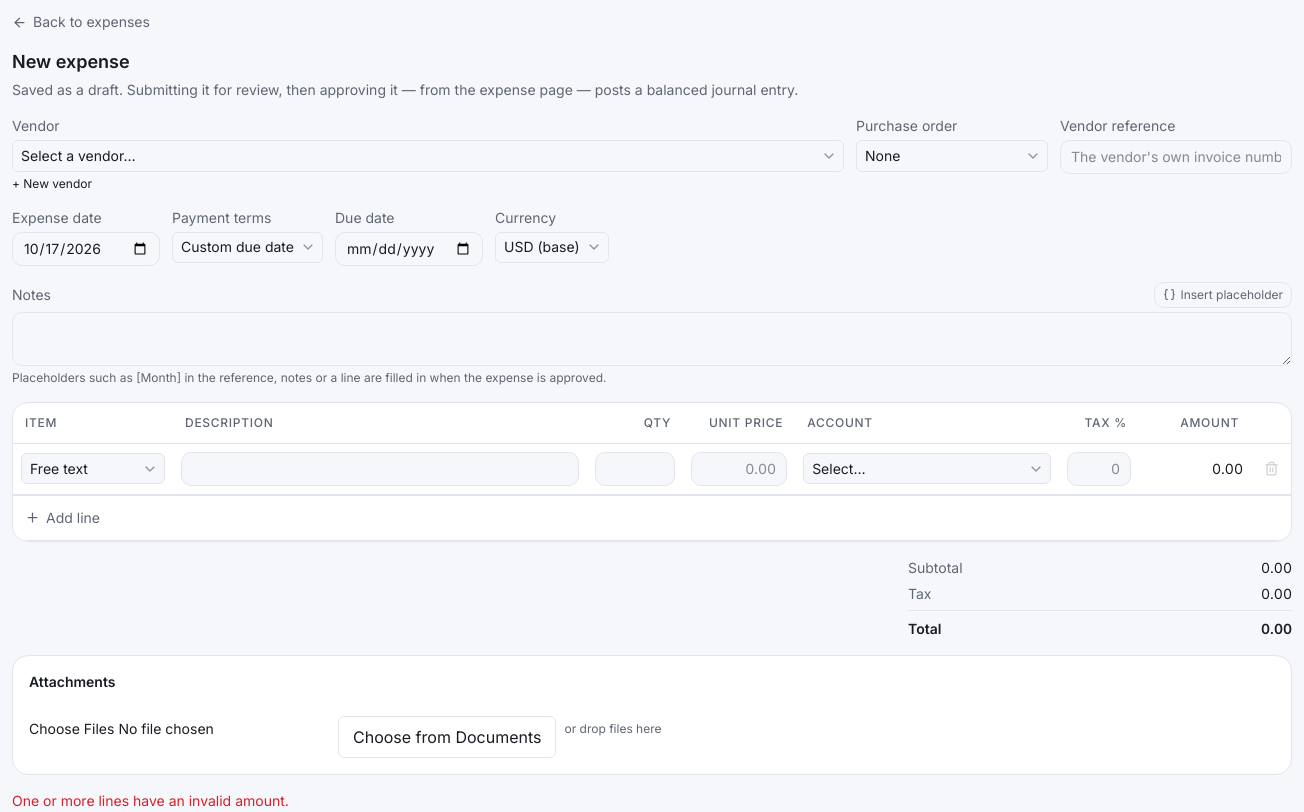
Test: quick add from a document line › on a bill, an inventory product with no account of its own gets the default inventory account
The width and height of the screenshot is (1304, 812).
Select "GEN-00009 · Plain stock · 0 EA on hand" in the dropdown named "Item for line 1" at (93, 469), box x1=21 y1=453 x2=165 y2=484
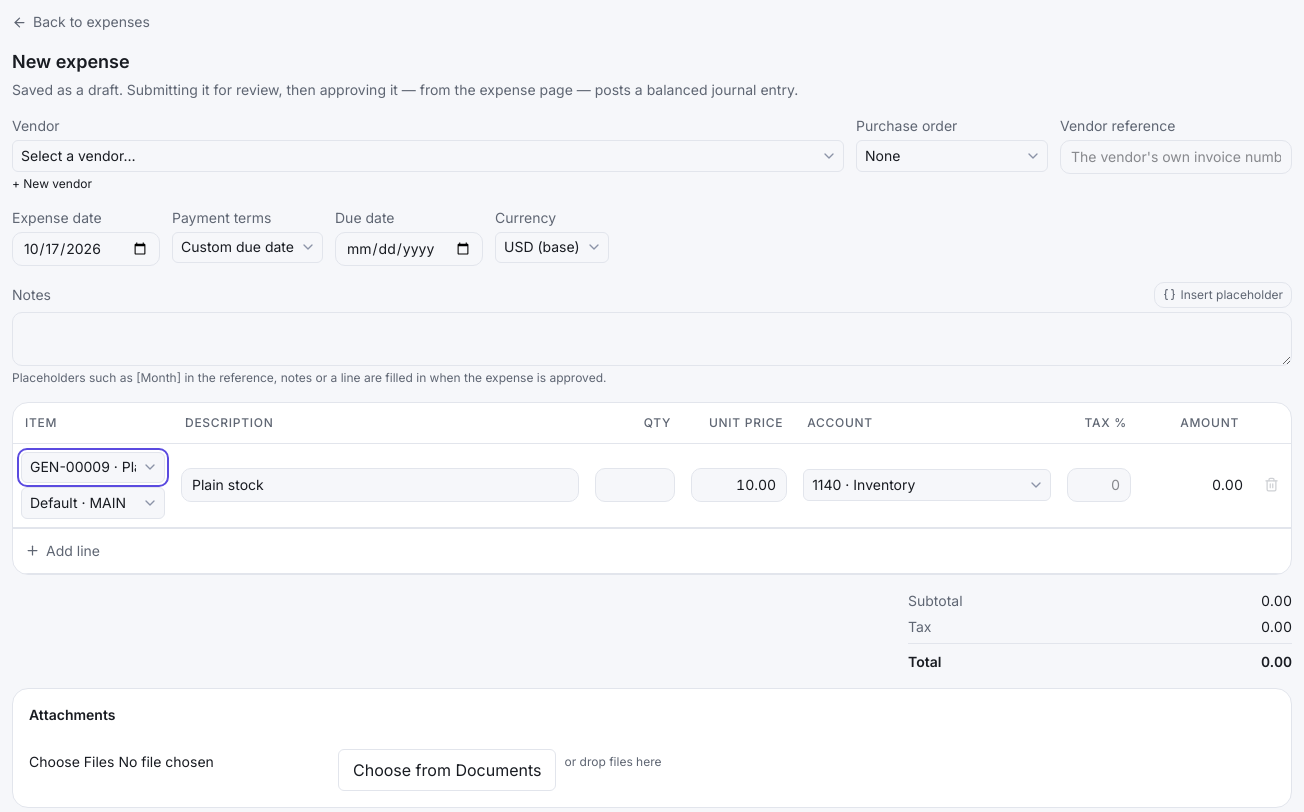
Now the dropdown named "Account for line 1" shows "1140 · Inventory", box x1=803 y1=469 x2=1051 y2=501
